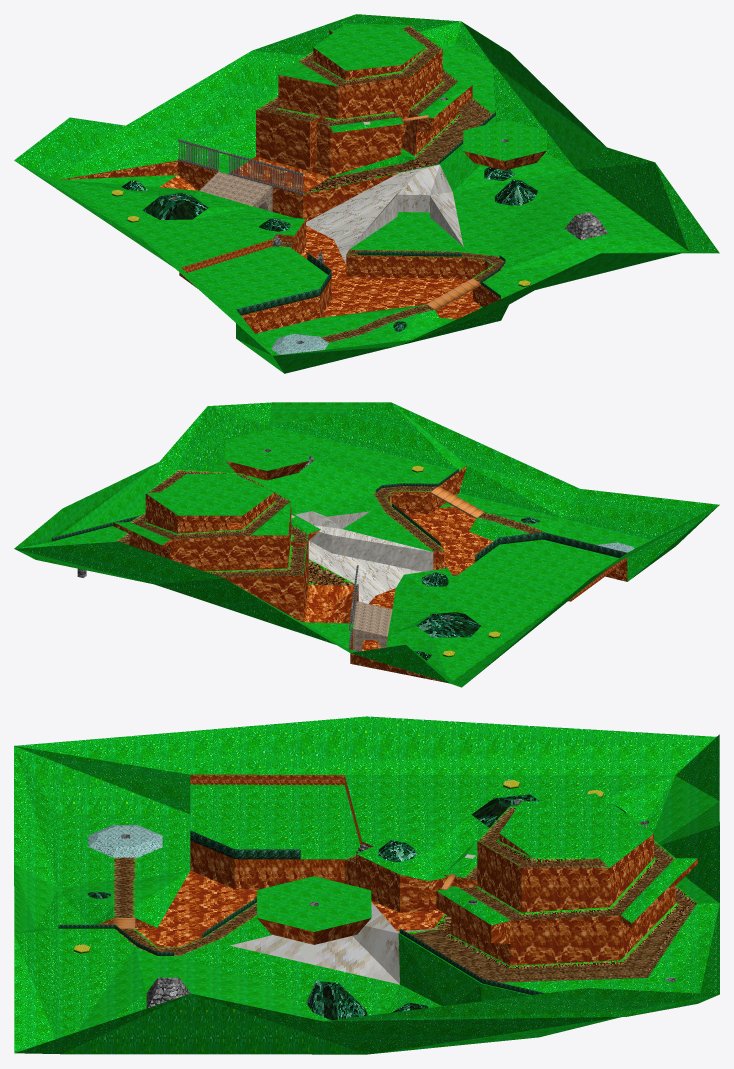
File: bob-omb-Battlefield.fbx
3 renders of one model, top to bottom at view 1: azimuth 30°, elevation 25°; view 2: azimuth 150°, elevation 25°; view 3: azimuth 270°, elevation 25°, orthographic. The views are drawn at different scales.
Visible parts, largest first — view 1: bobomb battlefeild; view 2: bobomb battlefeild; view 3: bobomb battlefeild.
Part boxes in pixels (x1,y1,x2,y2): bobomb battlefeild: (14,14,719,373); bobomb battlefeild: (14,402,719,687); bobomb battlefeild: (14,716,719,1054).
Size of the model in its own units: 8196 by 2335 by 8198.
23 materials, 23 textured.
